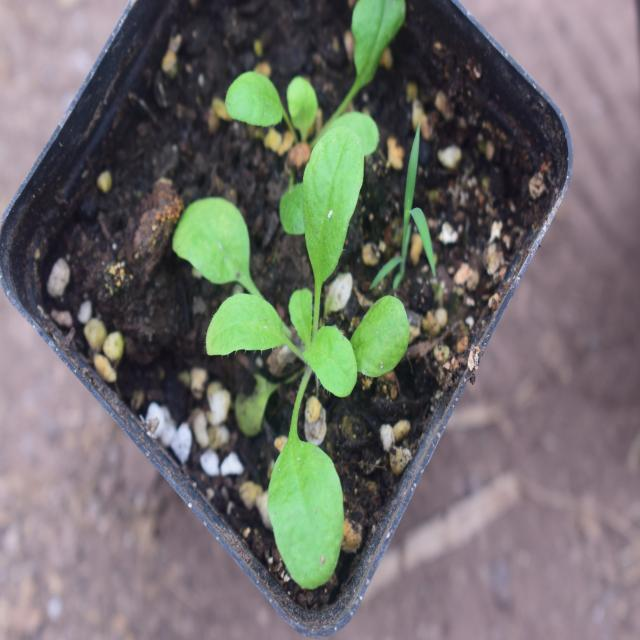Shepherd_Purse: (165, 96, 397, 604)
